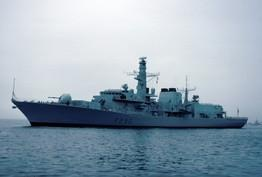warship: (9, 56, 247, 129)
